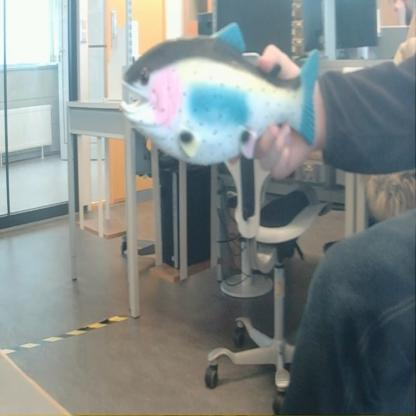rubberfish: (115, 18, 322, 162)
